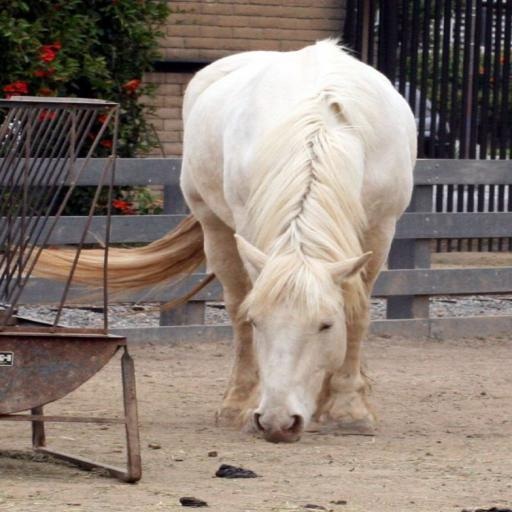horse: (6, 32, 420, 444)
